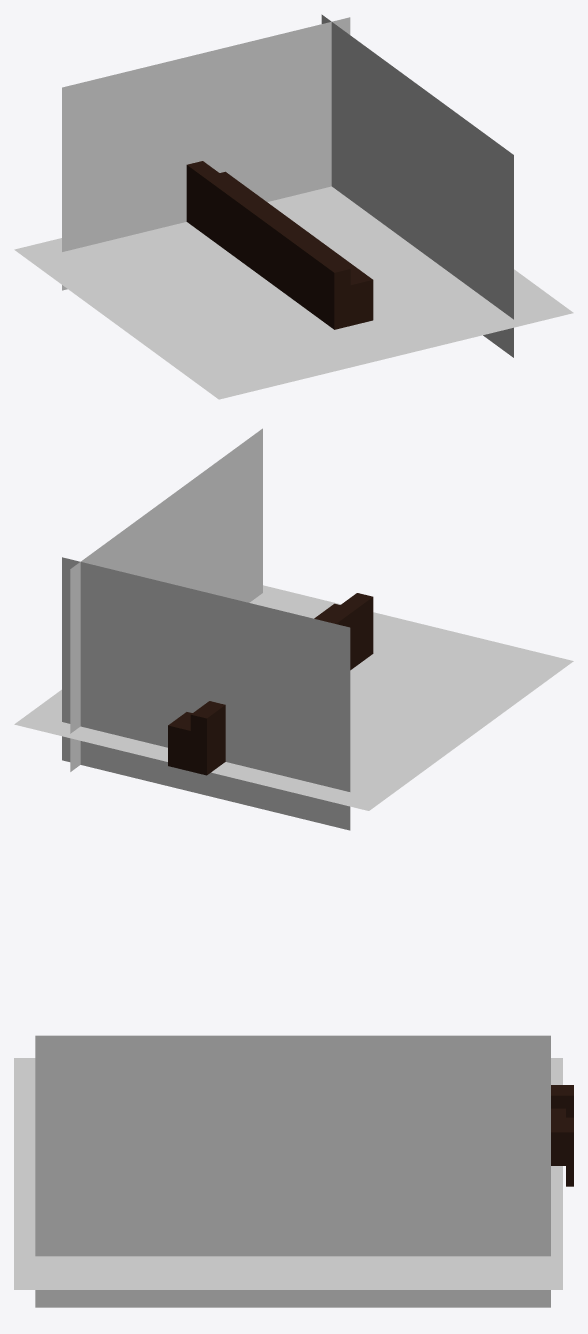
Rendered from Level.fbx.
The picture shows the model from 3 angles, top to bottom: view 1: azimuth 30°, elevation 25°; view 2: azimuth 150°, elevation 25°; view 3: azimuth 270°, elevation 25°; orthographic projection. The views are drawn at different scales.
Parts seen in each view (by area): view 1: Floor, Wall East, Wall South, BarCounter; view 2: Wall East, Floor, Wall South, BarCounter; view 3: Wall South, Floor, BarCounter.
Part boxes in pixels (box(x1,y1,x2,y2)): Floor: box(14, 186, 573, 399); Wall East: box(62, 17, 350, 290); Wall South: box(321, 14, 513, 357); BarCounter: box(186, 161, 373, 329); Wall East: box(62, 557, 350, 830); Floor: box(14, 585, 573, 810); Wall South: box(70, 428, 262, 771); BarCounter: box(168, 593, 373, 775); Wall South: box(35, 1035, 550, 1307); Floor: box(14, 1058, 562, 1289); BarCounter: box(551, 1085, 573, 1186).
Size of the model in its own units: 915 by 500 by 933.
